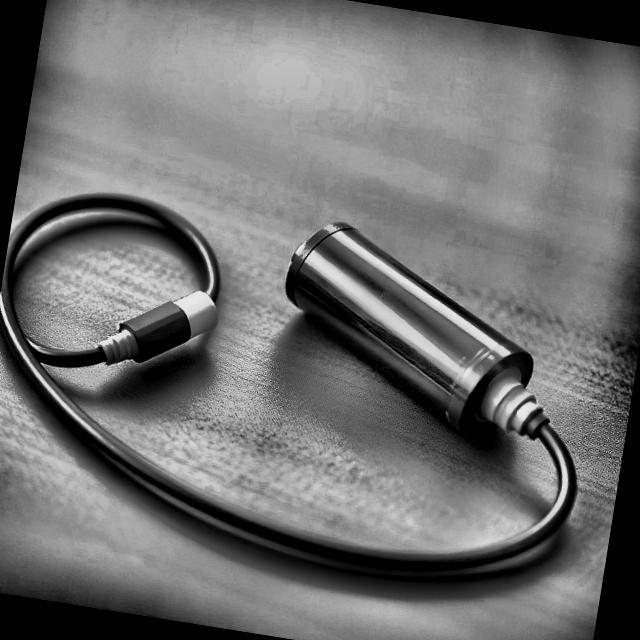Battery: (264, 202, 551, 443)
Cable: (150, 352, 596, 614), (0, 170, 230, 509)
